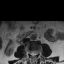CCS_stenosis: (32, 51, 34, 58)
LFS_stenosis: (35, 51, 38, 56)
LLS_normal: (34, 51, 36, 57)
RFS_stenosis: (29, 51, 31, 56)
RLS_stenosis: (31, 51, 32, 57)
